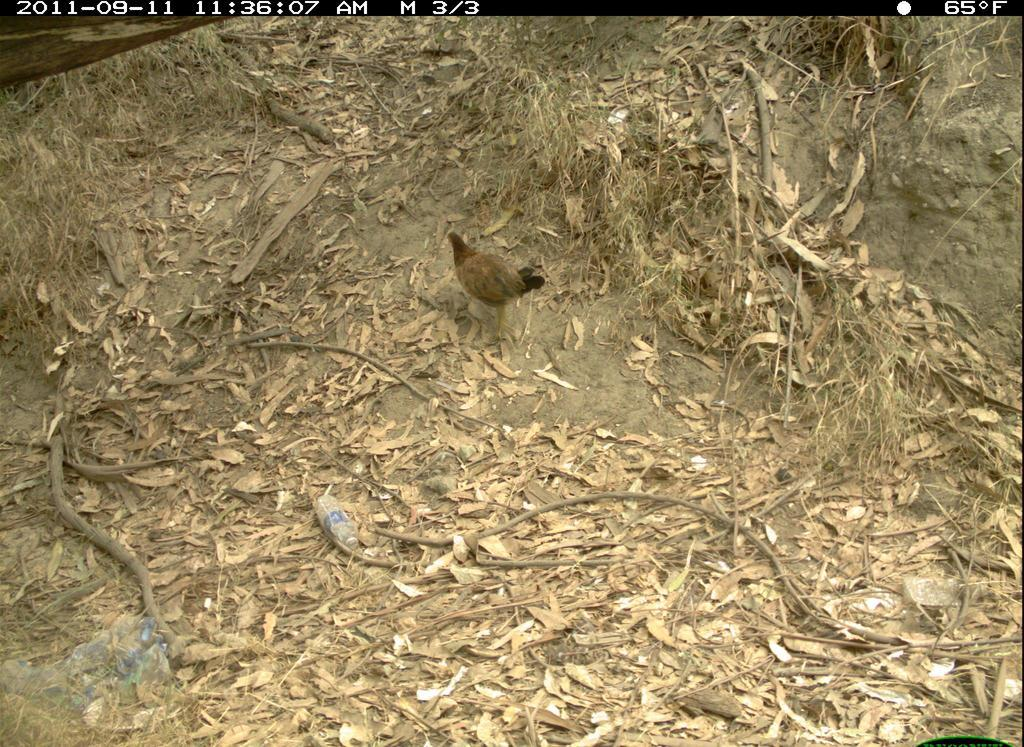bird: (438, 219, 546, 360)
